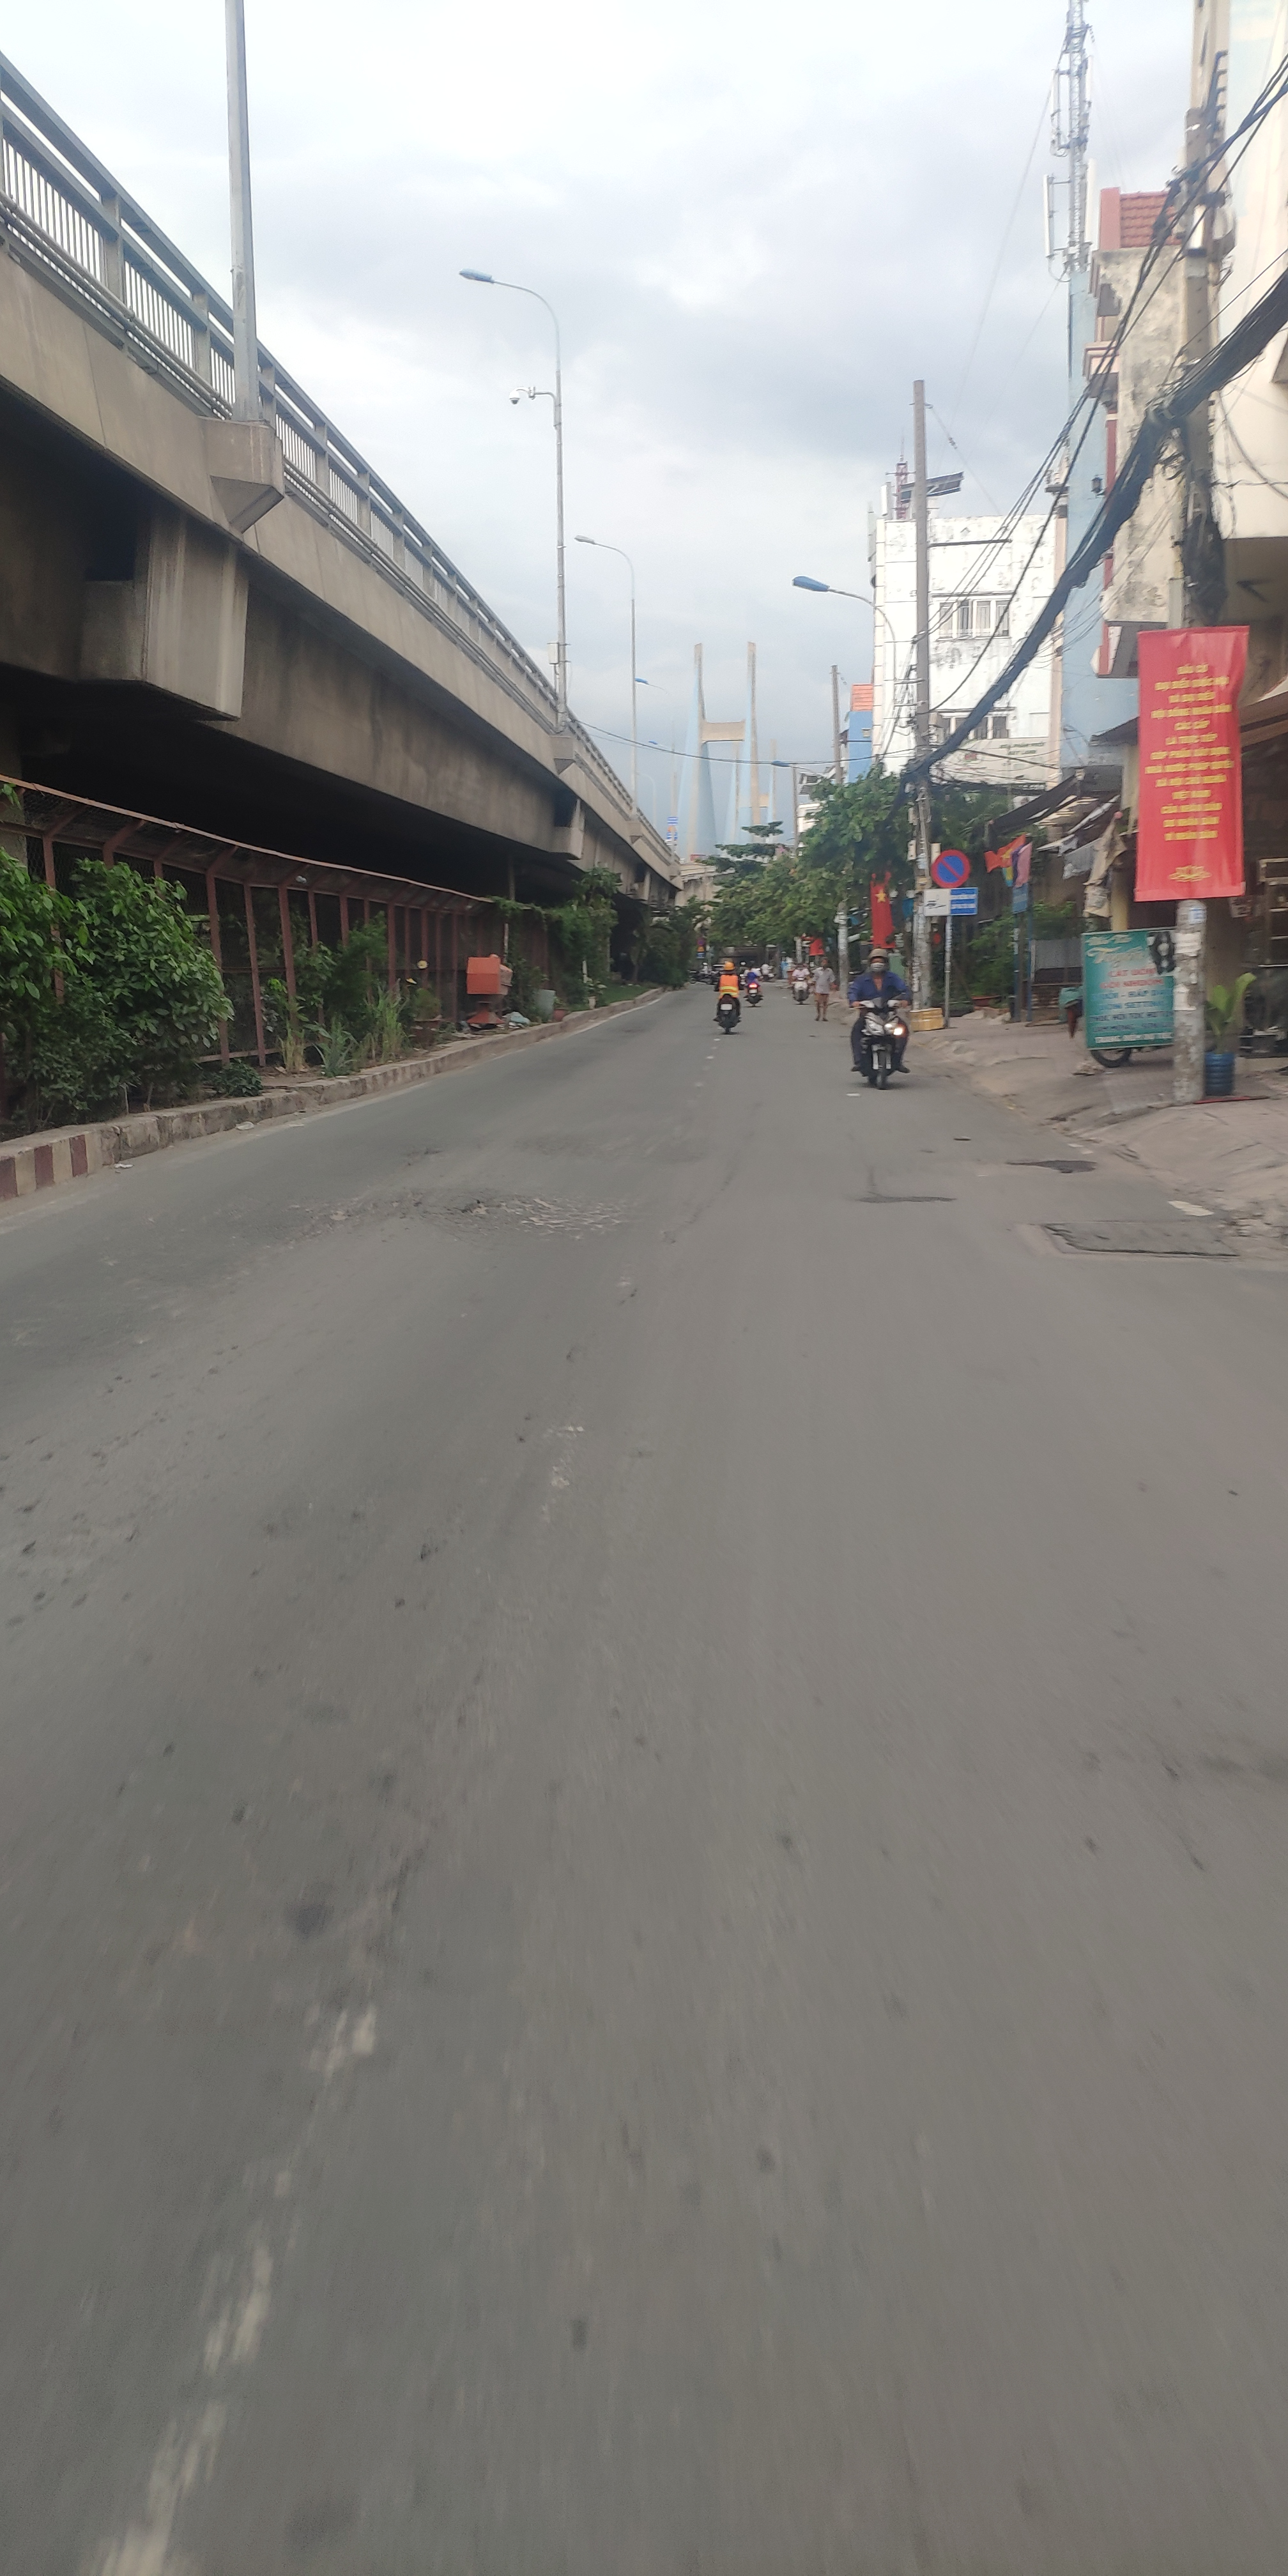hole: (425, 1189, 674, 1253), (251, 1181, 414, 1253), (508, 1124, 713, 1165)
